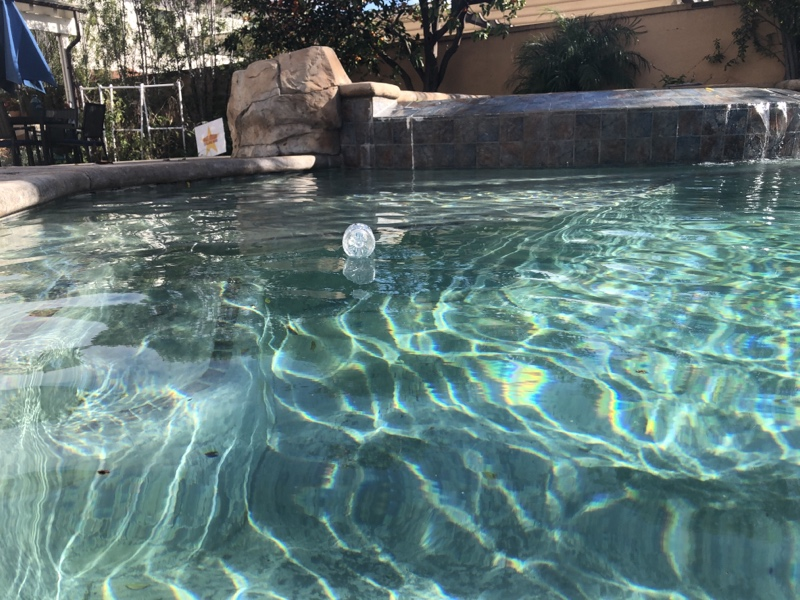Plastic Bottle: (338, 221, 381, 260)
